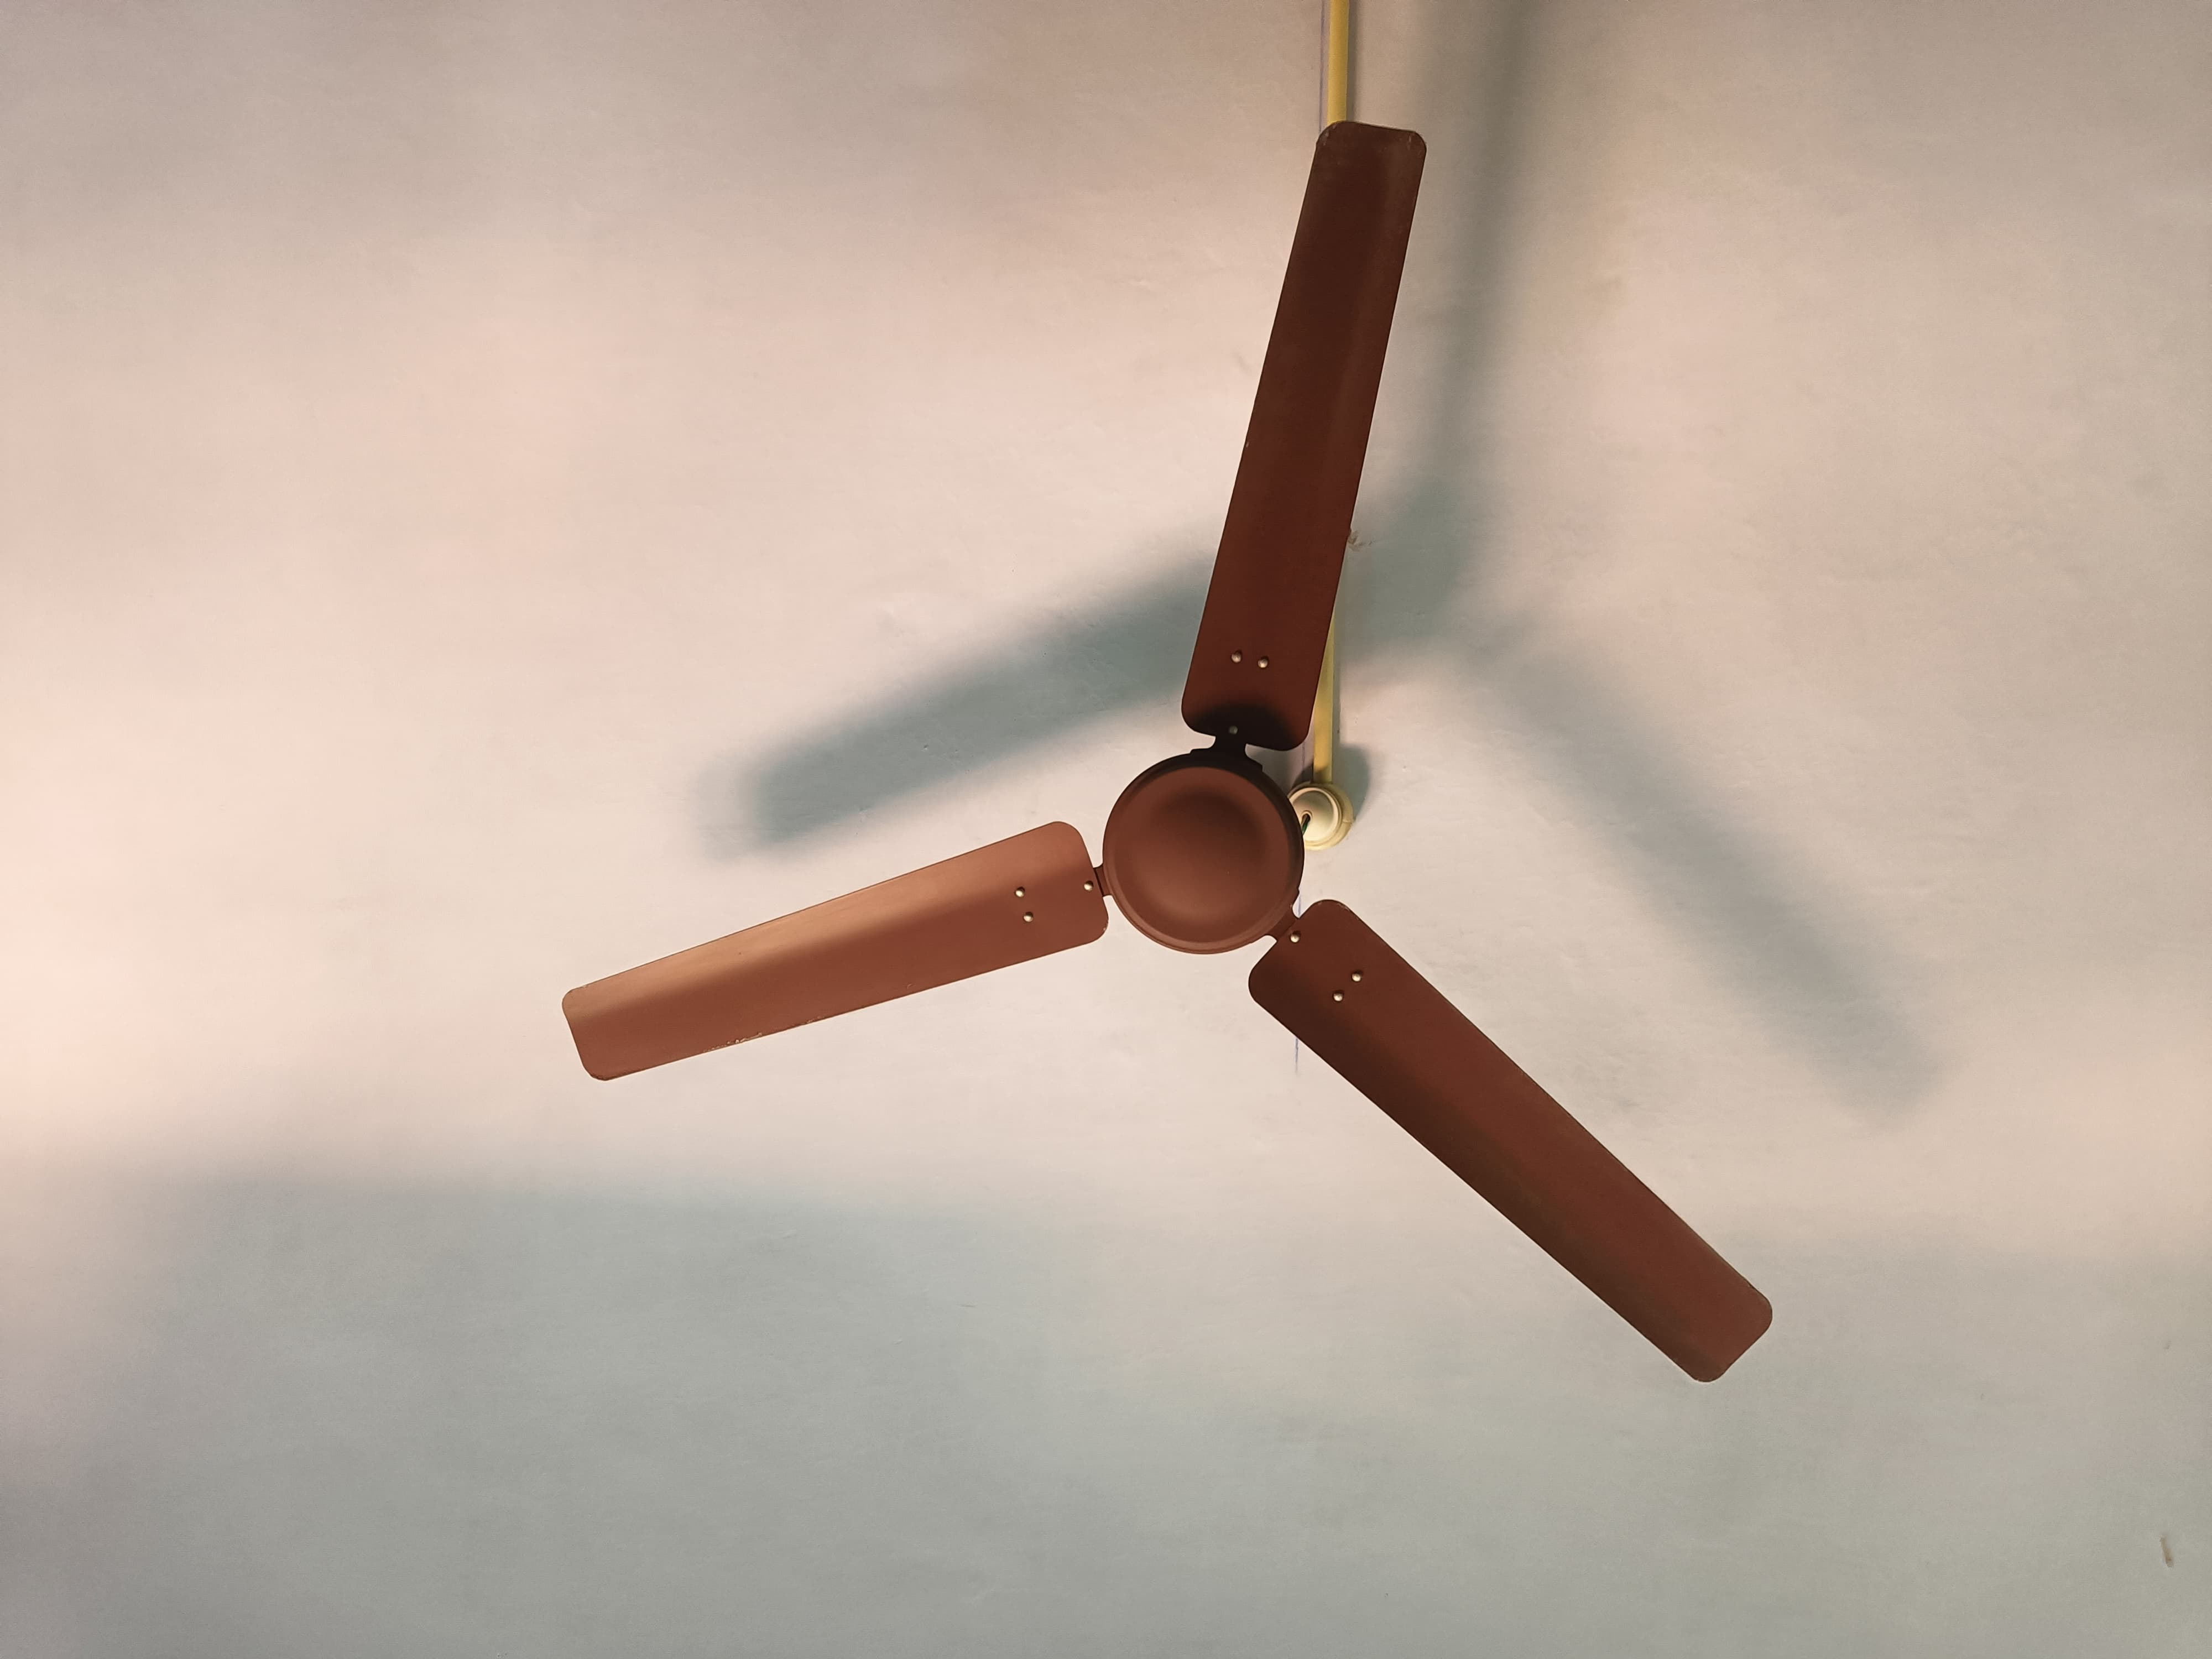Fan: (564, 123, 1774, 1376)
